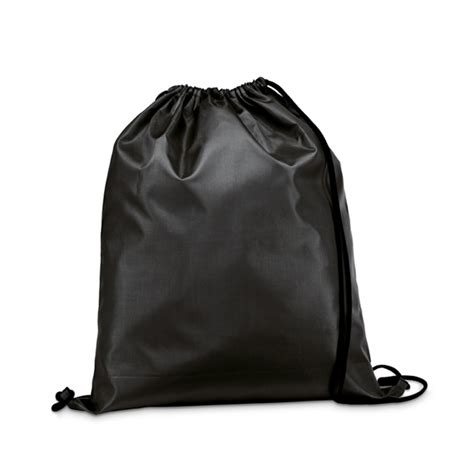nylon: (52, 77, 409, 417)
